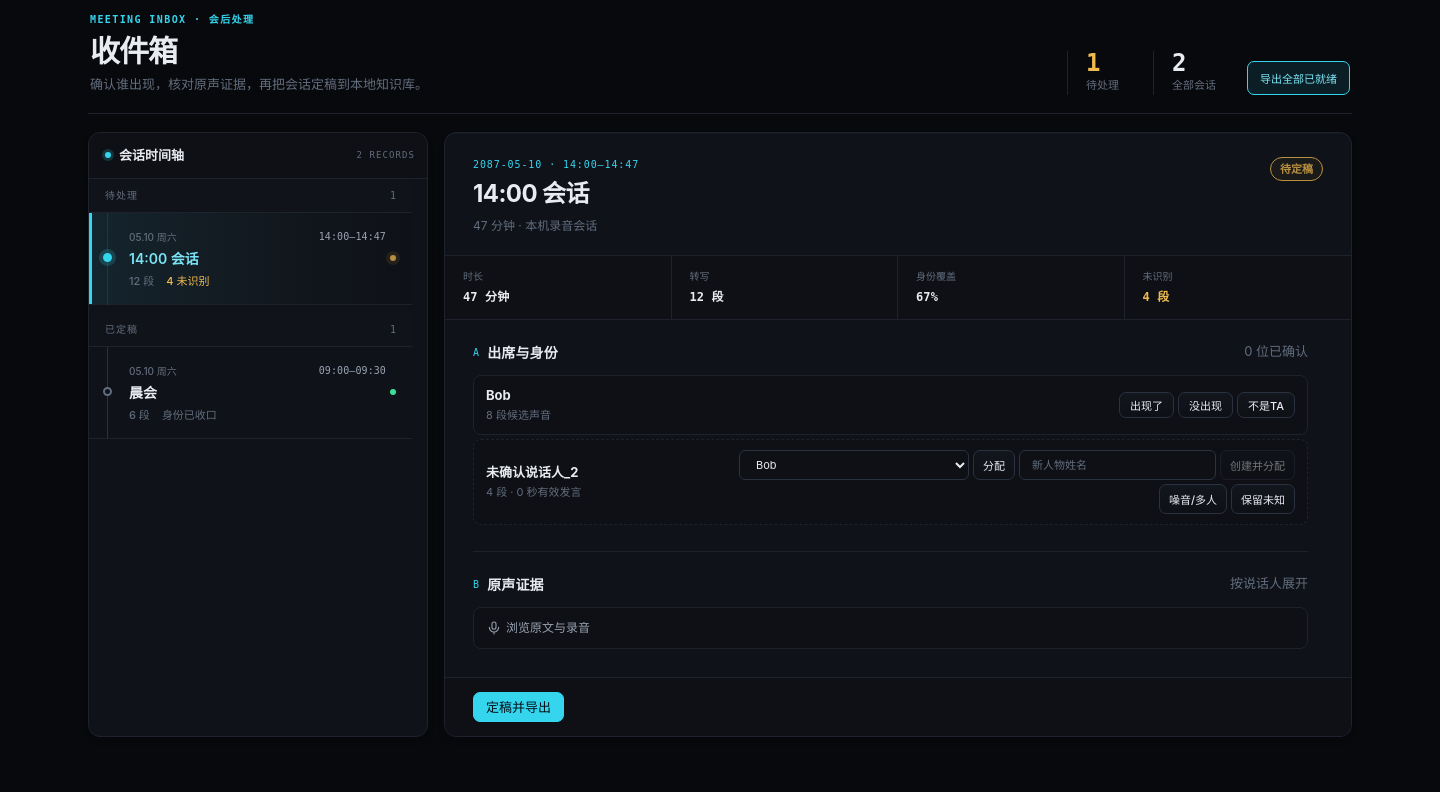
InboxPanel › bounds huge evidence payloads to 40 reading blocks per page
What coordinates should you click on to do the following:
click the heading "浏览原文与录音"
I would click on:
 (538, 628)
Its box is top-left (486, 620), bottom-right (590, 636).
(page scrolled)
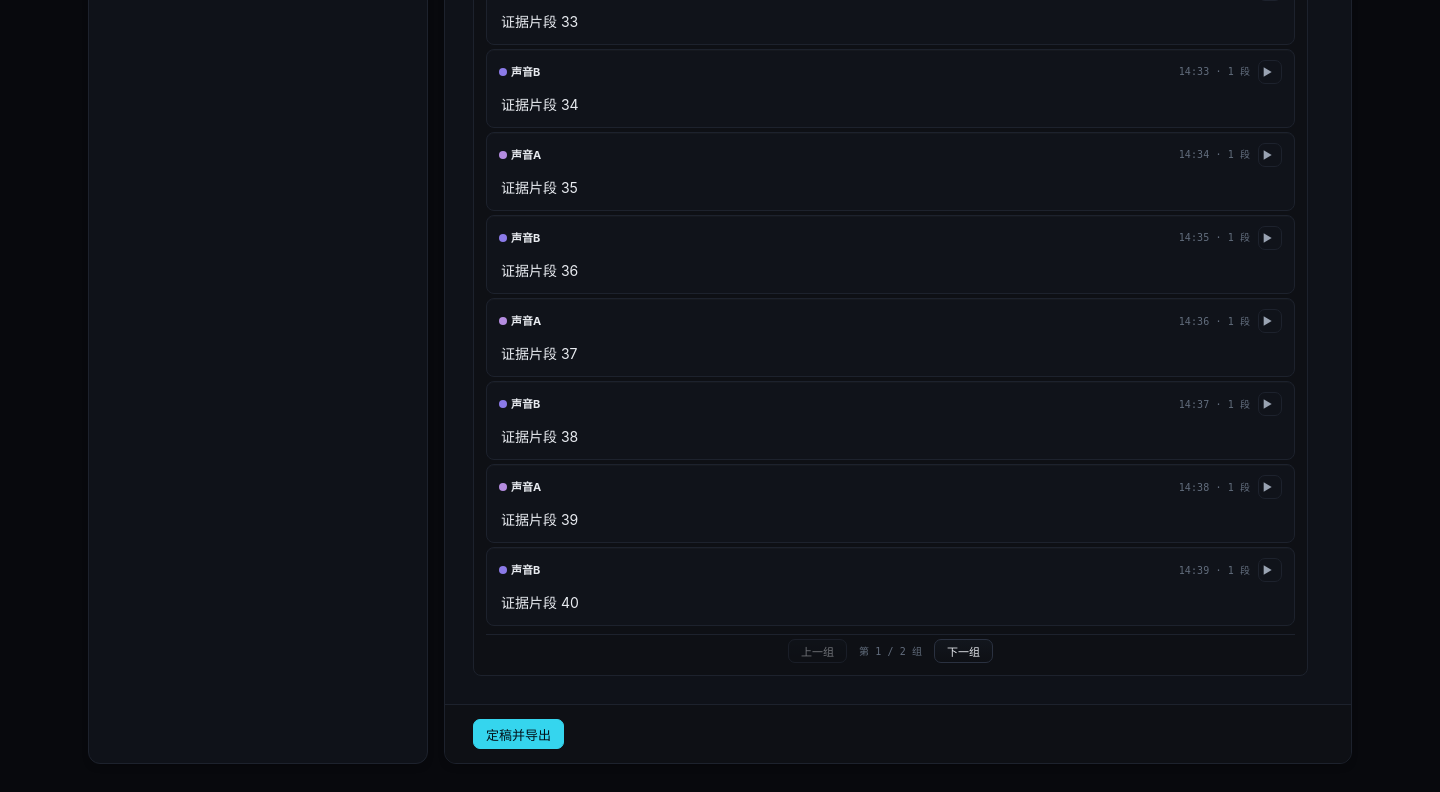
Expected: the text "证据片段 41" is not shown
Now the button "证据片段 40" is shown, box top-left (499, 590), bottom-right (581, 615)
What coordinates should you click on to do the following:
click the button "下一组"
I would click on:
 (964, 651)
Its box is top-left (934, 639), bottom-right (993, 663).
(page scrolled)
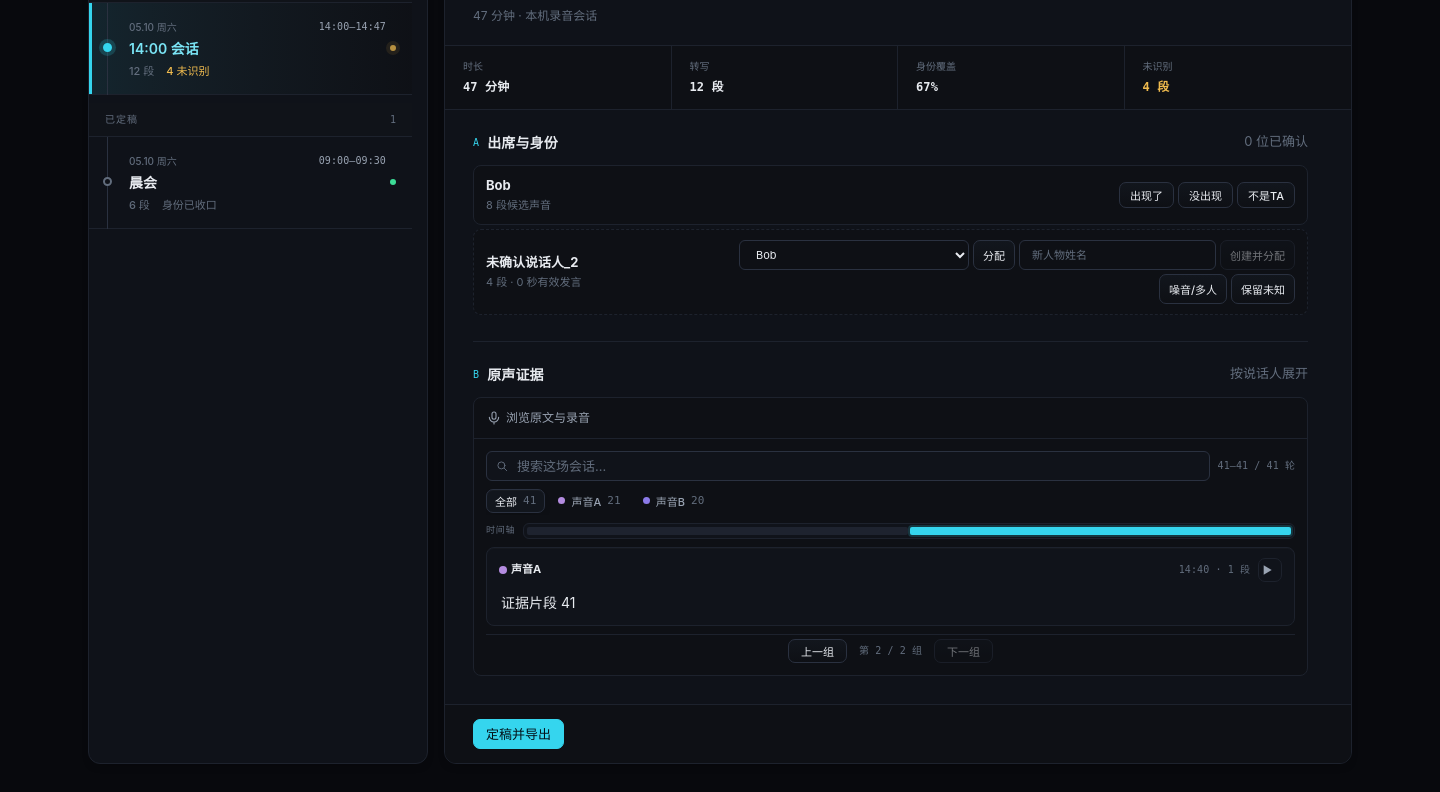
Now the button "证据片段 41" is shown, box top-left (499, 590), bottom-right (577, 615)
